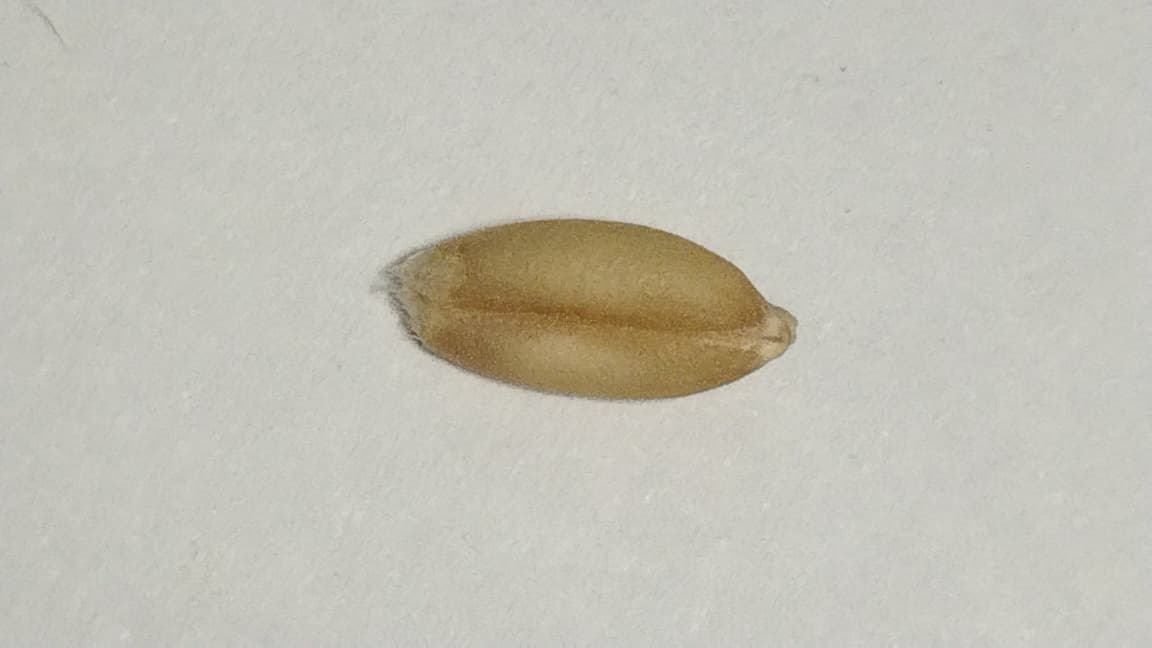healthy: (389, 219, 795, 399)
